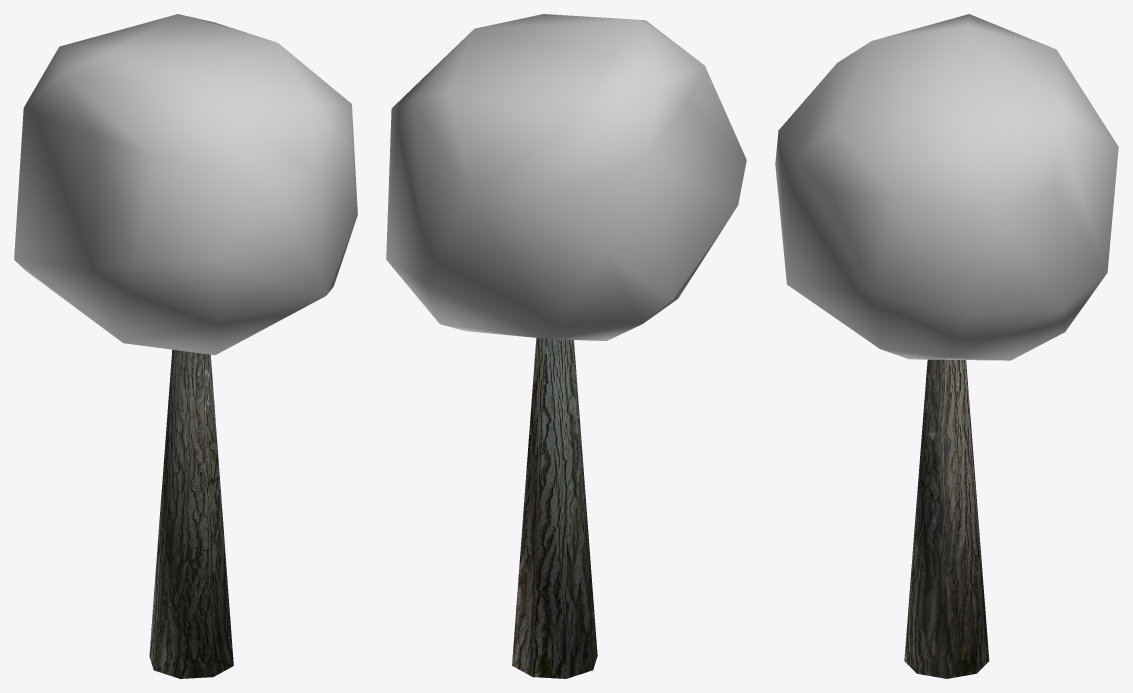
The model's file is tree.dae.
3 renders of one model, left to right at view 1: azimuth 30°, elevation 25°; view 2: azimuth 150°, elevation 25°; view 3: azimuth 270°, elevation 25°, orthographic. The views are drawn at different scales.
Parts seen in each view (by area): view 1: leave, trunk; view 2: leave, trunk; view 3: leave, trunk.
Part boxes in pixels (box(x1,y1,x2,y2)): leave: box(14, 14, 357, 355); trunk: box(149, 349, 233, 678); leave: box(386, 14, 746, 340); trunk: box(512, 338, 597, 678); leave: box(775, 14, 1118, 360); trunk: box(904, 359, 989, 678).
Bounding box in the file's own units: 7.72 × 8.08 × 15.63.
